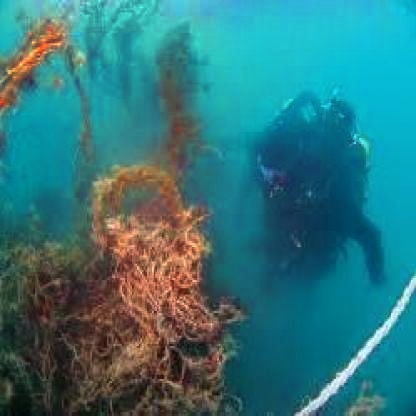net: (2, 171, 229, 416)
